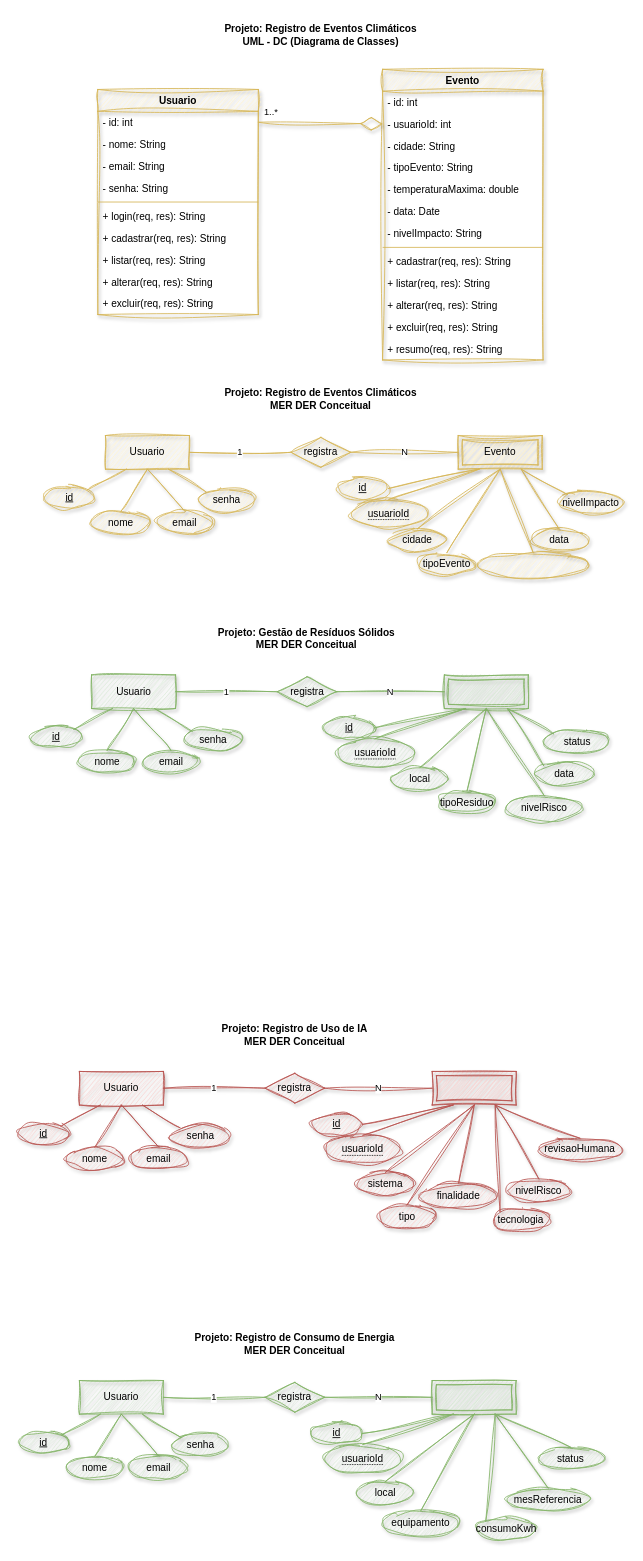
Some shapes in this 643 by 1561 pixel diagram are drawn without their labels. Each missing label, with the centre of its shape:
"Consumo" belongs at (x=474, y=1398).
"Ocorrencia" belongs at (x=486, y=692).
"temperaturaMaxima" belongs at (x=533, y=566).
"UsoIA" belongs at (x=474, y=1089).
